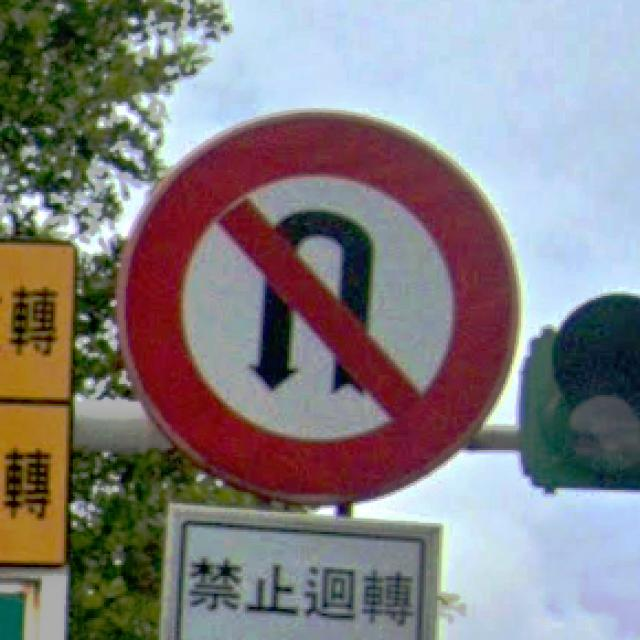nouturn: (121, 113, 519, 501)
